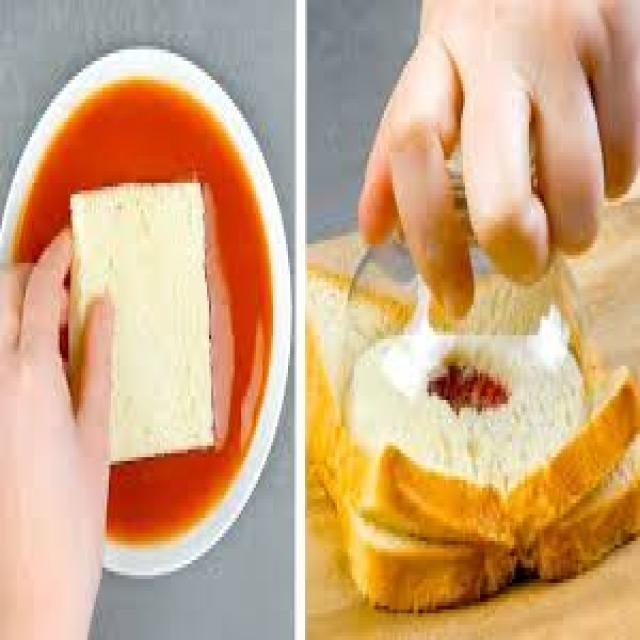Bread: (70, 183, 214, 461)
